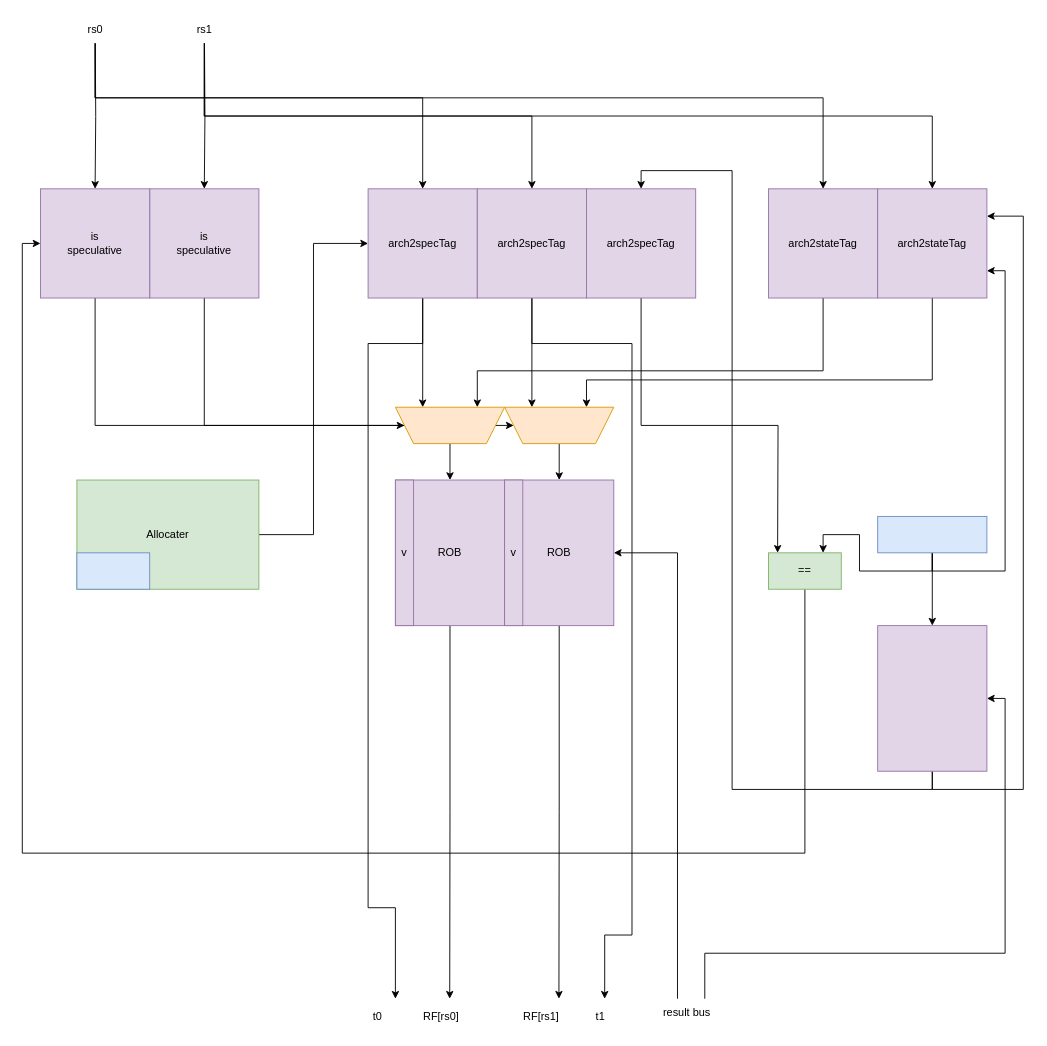
This 1047x1046 diagram has some shape labels left out. The shapes that lost their labels are listed below. From the top down, each one's centre as x and y in pixels, then its label:
At (932,534): "Head Tag".
At (113,570): "tail tag".
At (932,698): "ROB RD".
